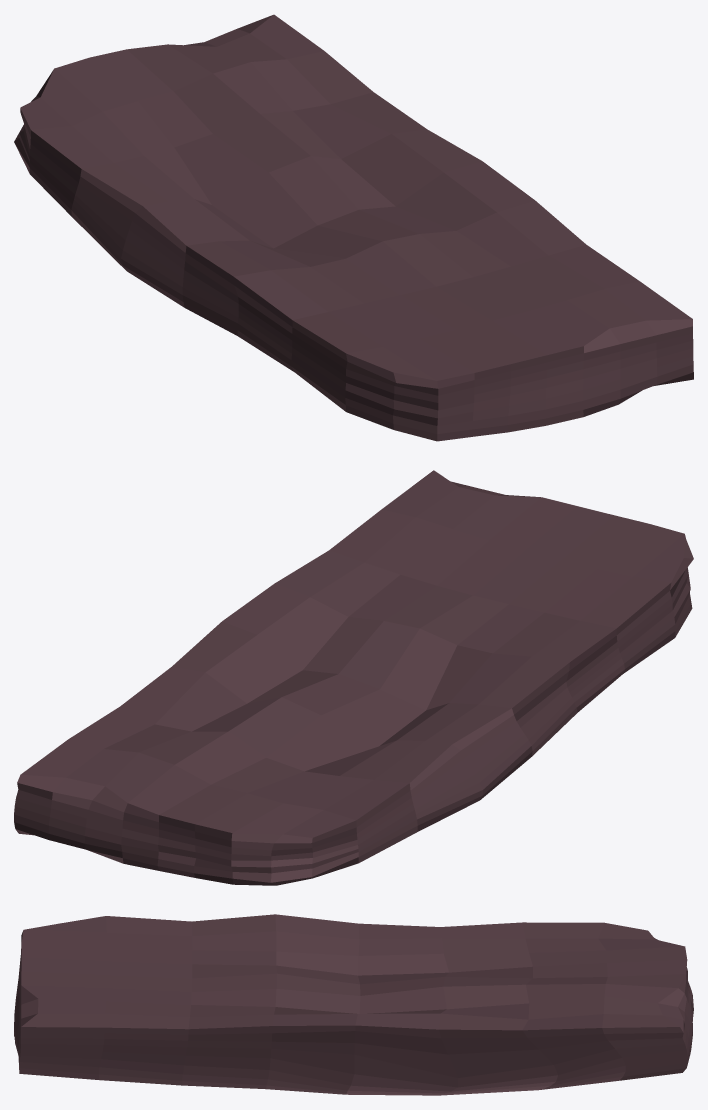
The model's file is plank.fbx.
3 renders of one model, top to bottom at view 1: azimuth 30°, elevation 25°; view 2: azimuth 150°, elevation 25°; view 3: azimuth 270°, elevation 25°, orthographic. The views are drawn at different scales.
Visible parts, largest first — view 1: Cube; view 2: Cube; view 3: Cube.
Boxes of the visible parts, bbox=[...] form: Cube: bbox=[14, 14, 693, 441]; Cube: bbox=[14, 470, 693, 885]; Cube: bbox=[14, 914, 693, 1095].
Bounding box in the file's own units: 257 × 79.66 × 614.
